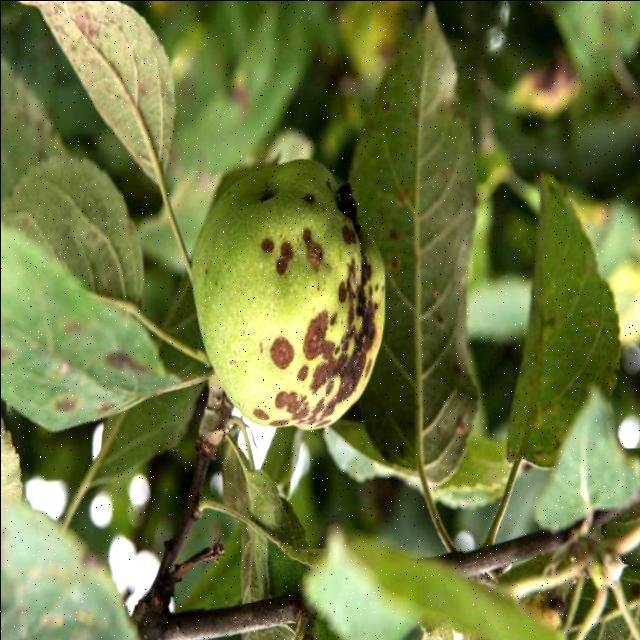SCAB: (180, 143, 382, 470)
